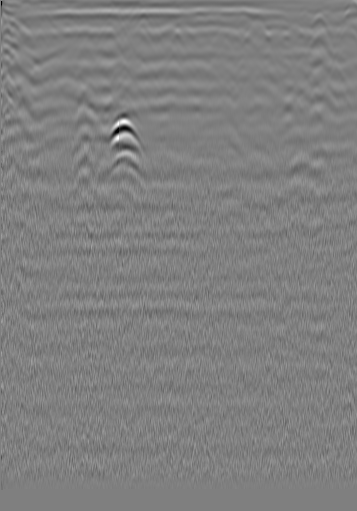가스: (98, 114, 142, 156)
상수: (19, 20, 39, 40)
오수: (308, 15, 328, 35)
우수: (160, 24, 180, 44)
